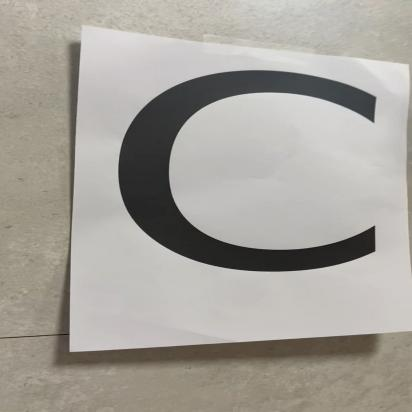seat: (96, 36, 398, 326)
